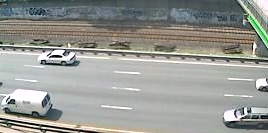car: (1, 87, 55, 119), (220, 103, 268, 130), (37, 49, 79, 67)
